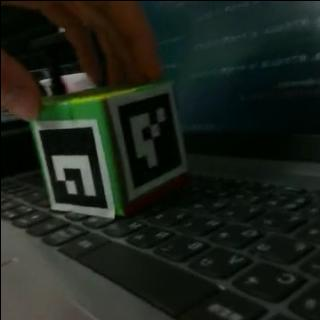armor: (108, 82, 186, 201), (32, 118, 114, 214)
robot: (24, 77, 192, 221)
